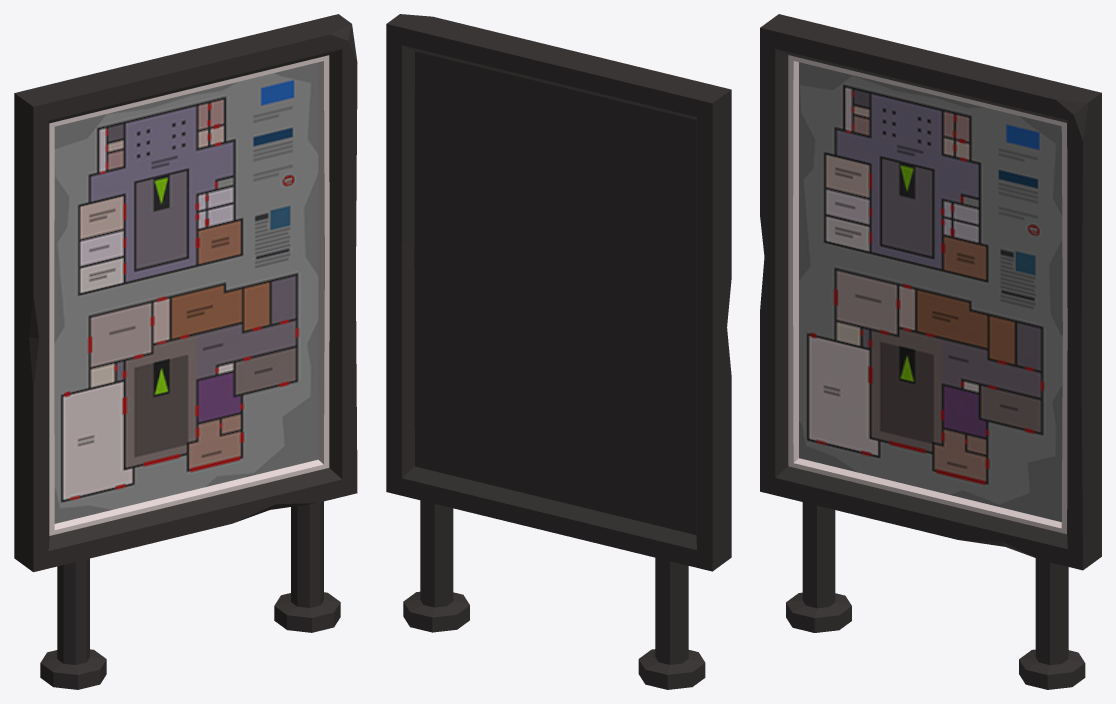
Rendered from Mall Map.fbx.
3 views of the same model, side by side, from view 1: azimuth 30°, elevation 25°; view 2: azimuth 150°, elevation 25°; view 3: azimuth 330°, elevation 25° (orthographic).
Visible parts, largest first — view 1: Mall_Map; view 2: Mall_Map; view 3: Mall_Map.
Boxes of the visible parts, x1=… form: Mall_Map: x1=14, y1=14, x2=357, y2=689; Mall_Map: x1=386, y1=14, x2=731, y2=689; Mall_Map: x1=760, y1=14, x2=1101, y2=689.
Size of the model in its own units: 101 by 175 by 16.68.
